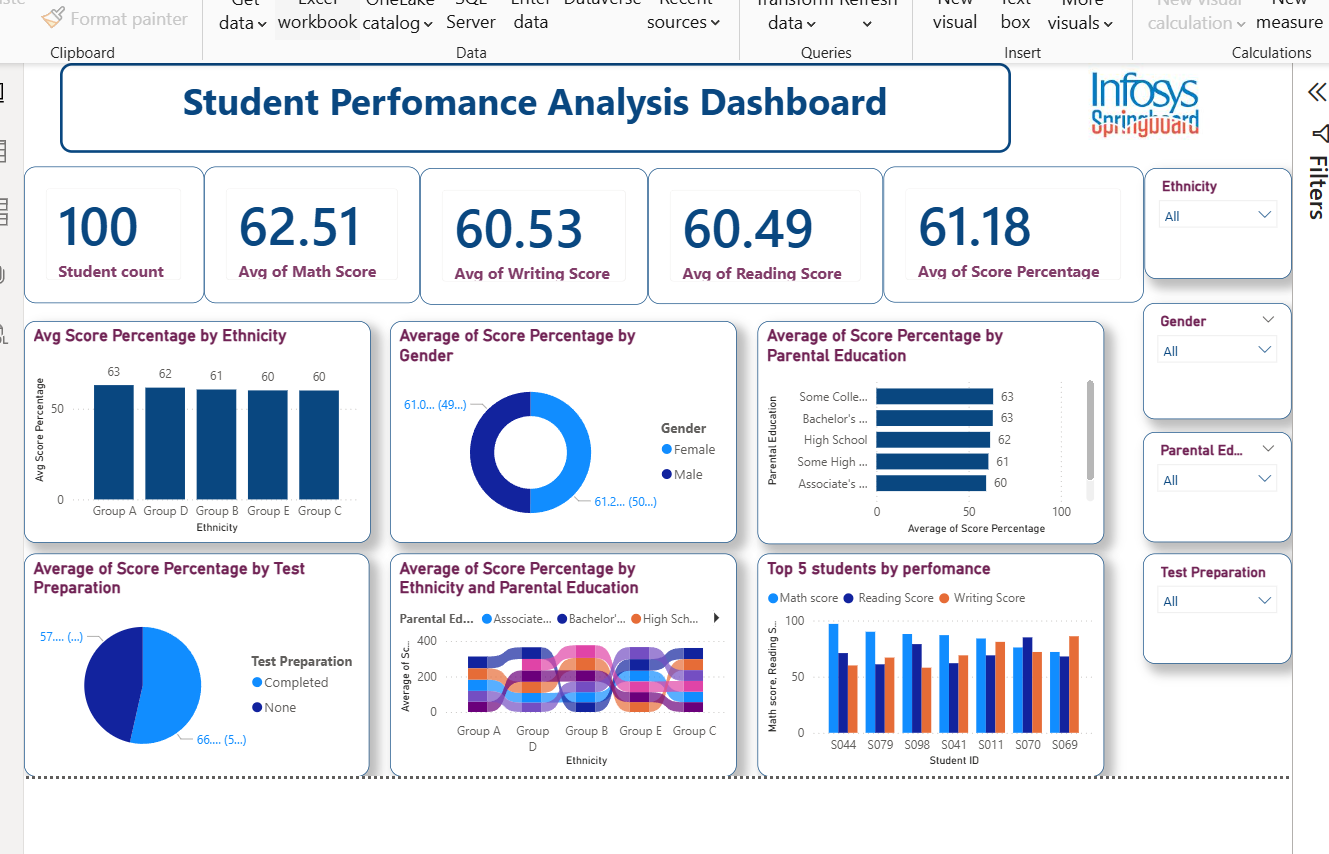

This screenshot's page, from the dashboard's own definition file:
{"tool":"powerbi","page":{"name":"Page 1","canvas":[1280,720],"ordinal":0},"visuals":[{"type":"textbox","box":[36.3,0,960,90.9],"z":0},{"type":"image","box":[996.3,0,268,90.9],"z":1000},{"type":"cardVisual","fields":{"Data":["Count(marks.Student ID)"]},"box":[0,104.5,181.7,137.8],"z":2000},{"type":"cardVisual","fields":{"Data":["Avg(marks.Math Score)"]},"box":[181.7,104.5,218,137.8],"z":3000},{"type":"cardVisual","fields":{"Data":["Avg(marks.Writing Score)"]},"box":[399.8,106,230.2,137.8],"z":4000},{"type":"cardVisual","fields":{"Data":["Avg(marks.Reading Score)"]},"box":[630,106.2,237.5,137.5],"z":5000},{"type":"cardVisual","fields":{"Data":["Avg(marks.Score Percentage)"]},"box":[867.5,105,262.5,137.5],"z":6000},{"type":"slicer","fields":{"Values":["marks.Ethnicity"]},"box":[1131.1,106,148.4,112.1],"z":7000},{"type":"slicer","fields":{"Values":["marks.Gender"]},"box":[1130,242.5,150,117.5],"z":8000},{"type":"slicer","fields":{"Values":["marks.Parental Education"]},"box":[1130,372.5,150,111.2],"z":9000},{"type":"clusteredColumnChart","fields":{"Category":["marks.Ethnicity"],"Y":["Avg(marks.Score Percentage)"]},"box":[0,260.4,350,224.1],"z":10000},{"type":"clusteredBarChart","fields":{"Y":["Avg(marks.Score Percentage)"],"Category":["marks.Parental Education"]},"box":[740,260,350,225],"z":11000},{"type":"donutChart","fields":{"Category":["marks.Gender"],"Y":["Avg(marks.Score Percentage)"]},"box":[369.5,260.4,349.8,224.1],"z":12000},{"type":"pieChart","fields":{"Y":["Avg(marks.Score Percentage)"],"Category":["marks.Test Preparation"]},"box":[0,495,348.8,225],"z":13000},{"type":"ribbonChart","fields":{"Category":["marks.Ethnicity"],"Y":["Avg(marks.Score Percentage)"],"Series":["marks.Parental Education"]},"box":[368.8,495,350,225],"z":14000},{"type":"slicer","fields":{"Values":["marks.Test Preparation"]},"box":[1130,495,150,111.2],"z":15000},{"type":"clusteredColumnChart","title":"Top 5 students by perfomance","fields":{"Y":["Avg(marks.Math Score)","Avg(marks.Reading Score)","Avg(marks.Writing Score)"],"Category":["marks.Student ID"]},"box":[740,495,350,225],"z":16000}]}

Visuals, with their boxes in screenshot pixels (x1, y1, x2, y2):
textbox: <region>60, 59, 1008, 149</region>
image: <region>1008, 59, 1273, 149</region>
cardVisual - Count(marks.Student ID): <region>24, 162, 204, 298</region>
cardVisual - Avg(marks.Math Score): <region>204, 162, 419, 298</region>
cardVisual - Avg(marks.Writing Score): <region>419, 164, 646, 300</region>
cardVisual - Avg(marks.Reading Score): <region>646, 164, 881, 300</region>
cardVisual - Avg(marks.Score Percentage): <region>881, 163, 1140, 298</region>
slicer - marks.Ethnicity: <region>1141, 164, 1288, 274</region>
slicer - marks.Gender: <region>1140, 298, 1288, 414</region>
slicer - marks.Parental Education: <region>1140, 427, 1288, 537</region>
clusteredColumnChart - marks.Ethnicity x Avg(marks.Score Percentage): <region>24, 316, 370, 537</region>
clusteredBarChart - Avg(marks.Score Percentage) x marks.Parental Education: <region>755, 316, 1101, 538</region>
donutChart - marks.Gender x Avg(marks.Score Percentage): <region>389, 316, 735, 537</region>
pieChart - Avg(marks.Score Percentage) x marks.Test Preparation: <region>24, 548, 369, 770</region>
ribbonChart - marks.Ethnicity x Avg(marks.Score Percentage): <region>388, 548, 734, 770</region>
slicer - marks.Test Preparation: <region>1140, 548, 1288, 658</region>
"Top 5 students by perfomance" clusteredColumnChart: <region>755, 548, 1101, 770</region>
